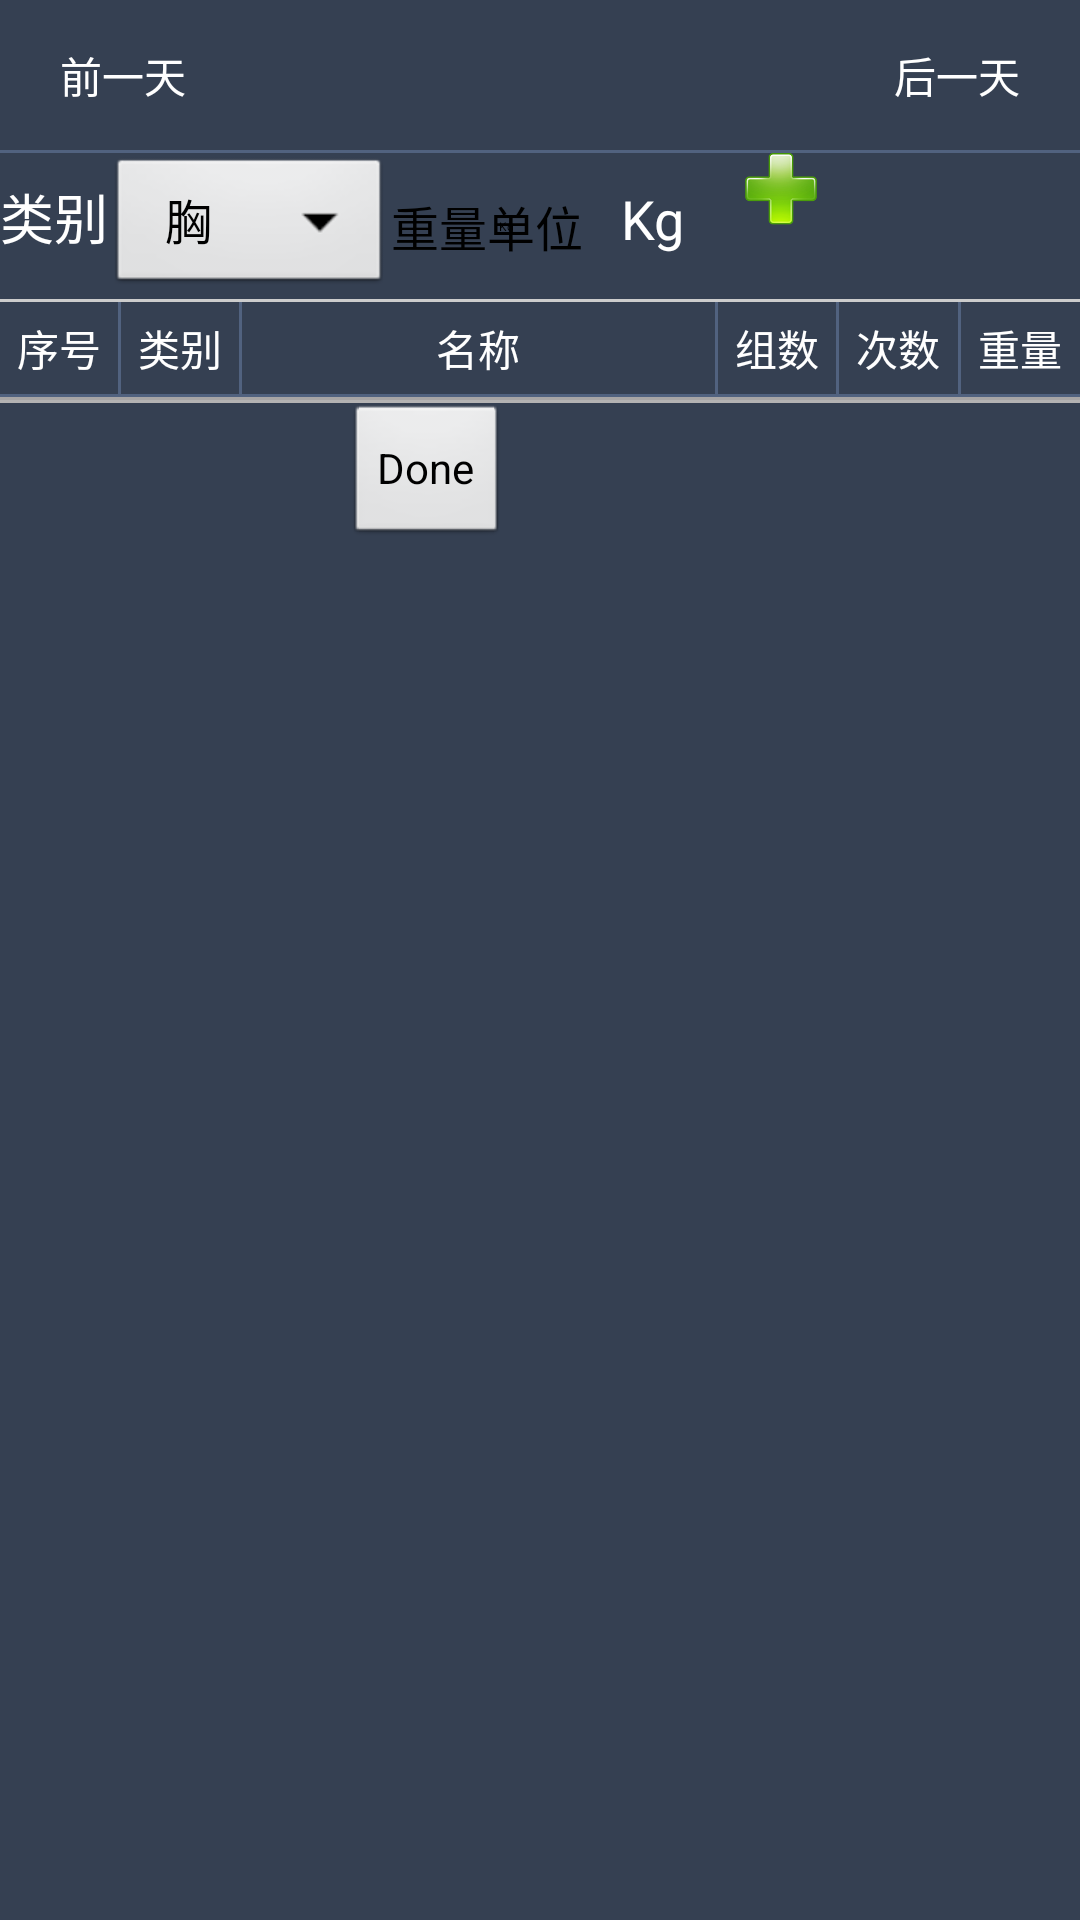

Icons on this 1080px×1920px Android screen, each with the point to tap as (x=x, y=y):
plus: (x=781, y=189)
